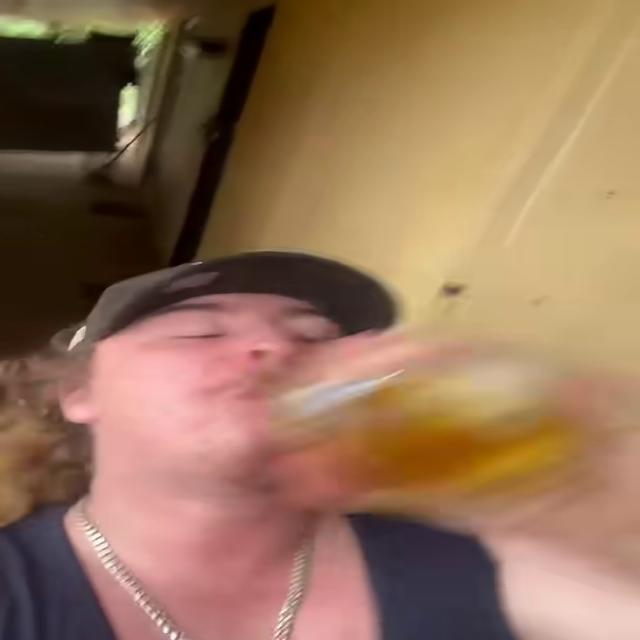Bottle: (276, 378, 602, 494)
Hand: (302, 330, 627, 551)
Mouth: (208, 368, 350, 418)
